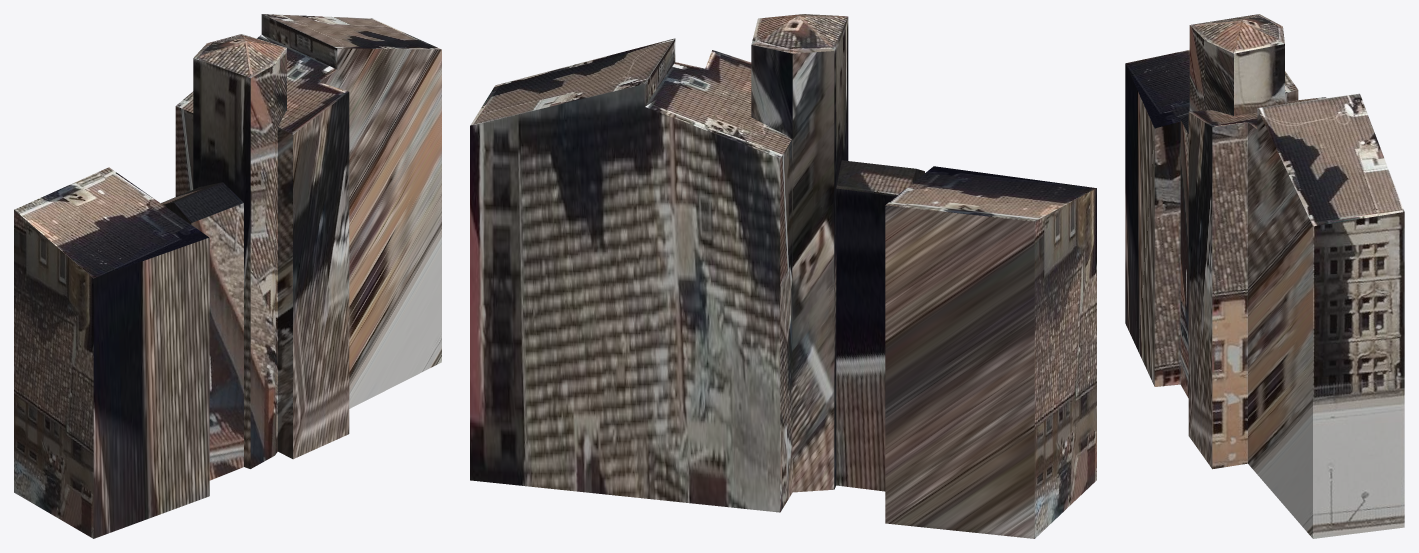
3 views of the same model, side by side, from view 1: azimuth 30°, elevation 25°; view 2: azimuth 150°, elevation 25°; view 3: azimuth 270°, elevation 25° (orthographic). The views are drawn at different scales.
Parts seen in each view (by area): view 1: Z_UP; view 2: Z_UP; view 3: Z_UP.
Part boxes in pixels (left/top/right/bottom): Z_UP: left=14, top=14, right=441, bottom=538; Z_UP: left=470, top=14, right=1096, bottom=538; Z_UP: left=1125, top=14, right=1404, bottom=538.
Size of the model in its own units: 28.24 by 24.05 by 15.05.
2 materials, 1 textured.
